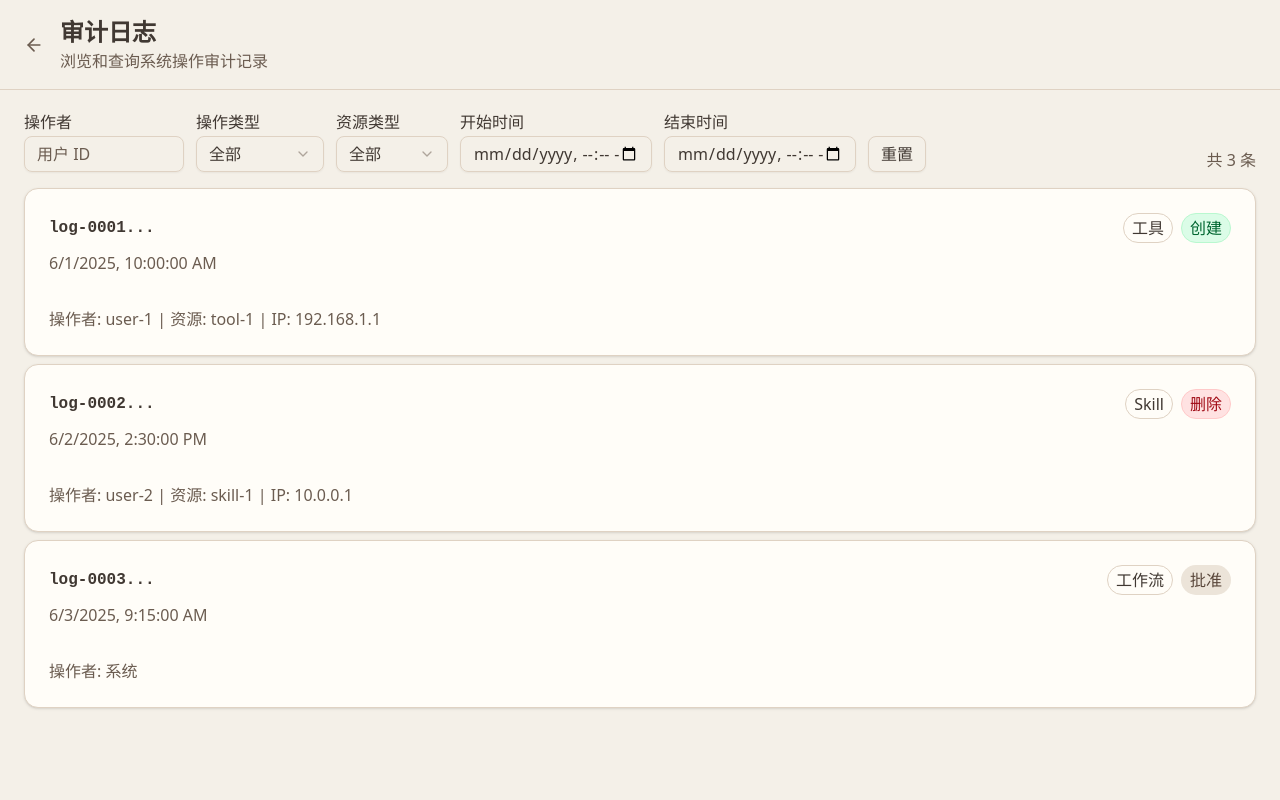
Test case: AuditLogsPage › opens detail dialog when clicking a log card
Check: the text "log-0001..." is shown, box [49,220,155,236]
Click the text "log-0001..." at (640, 272), box [24,188,1256,356]
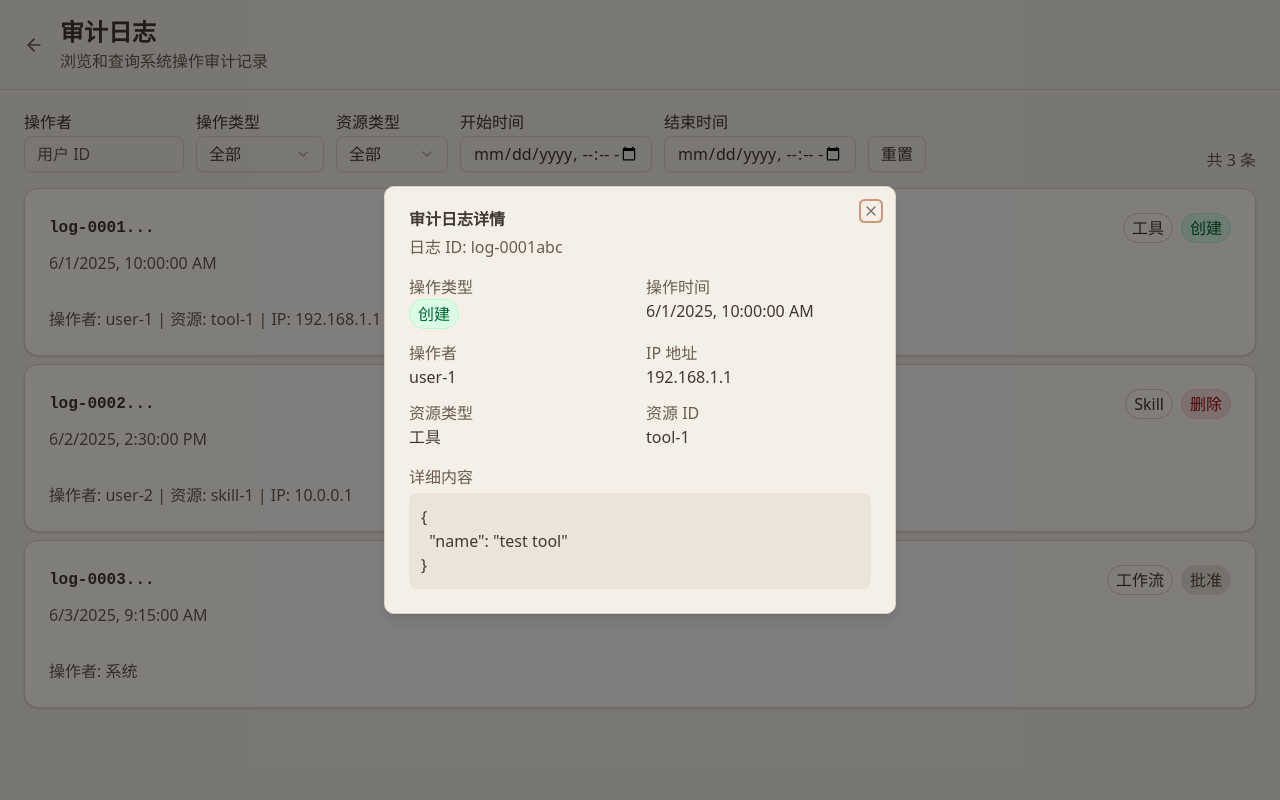
Check: the heading "审计日志详情" is shown, box [409,208,505,230]
Check: the text "日志 ID: log-0001abc" is shown, box [409,236,563,258]
